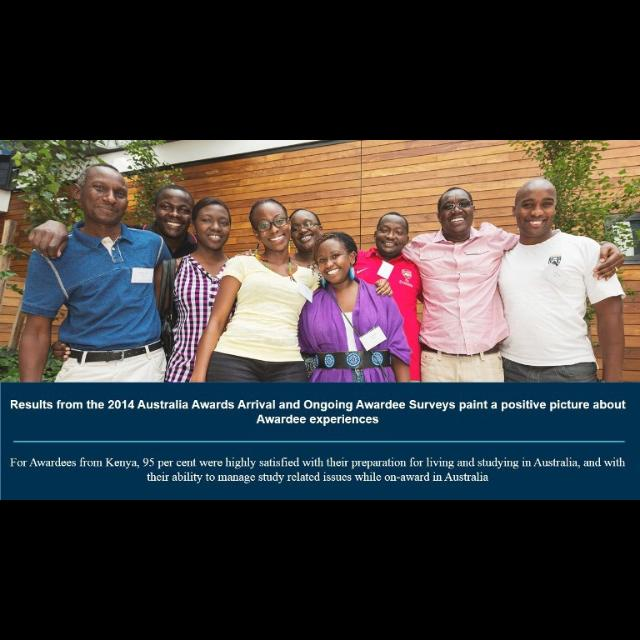head: (71, 164, 131, 226), (512, 178, 560, 238), (153, 184, 197, 240), (249, 197, 293, 253), (190, 197, 233, 253), (315, 232, 357, 286), (436, 187, 476, 236), (373, 214, 411, 258), (288, 208, 326, 252)
person: (374, 184, 628, 488), (309, 207, 456, 477), (237, 203, 353, 442)
